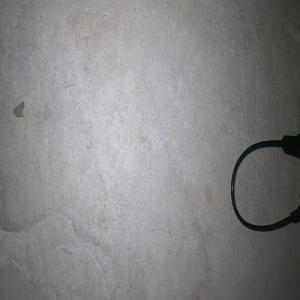Wire: (230, 132, 300, 232)
